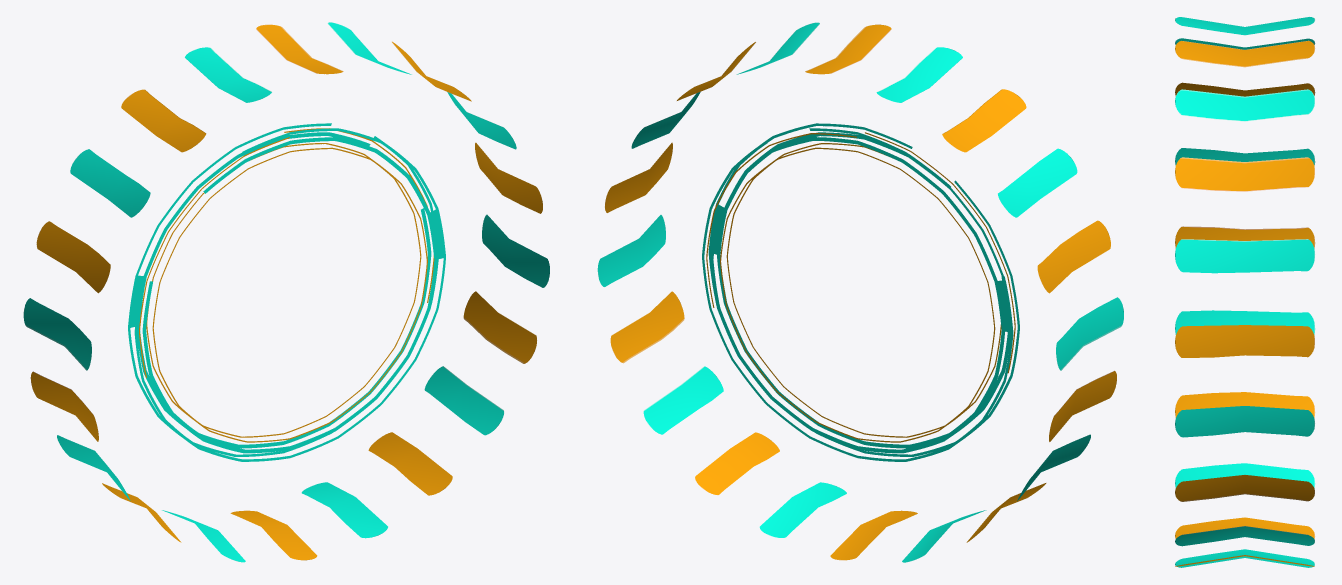
The model's file is ring.fbx.
3 views of the same model, side by side, from view 1: azimuth 30°, elevation 25°; view 2: azimuth 150°, elevation 25°; view 3: azimuth 270°, elevation 25° (orthographic). The views are drawn at different scales.
Parts seen in each view (by area): view 1: pCylinder3; view 2: pCylinder3; view 3: pCylinder3.
Part boxes in pixels (x1,y1,x2,y2): pCylinder3: (23,22,549,562); pCylinder3: (597,22,1123,562); pCylinder3: (1175,17,1315,567).
Bounding box in the file's own units: 21.63 × 21.63 × 6.37.
